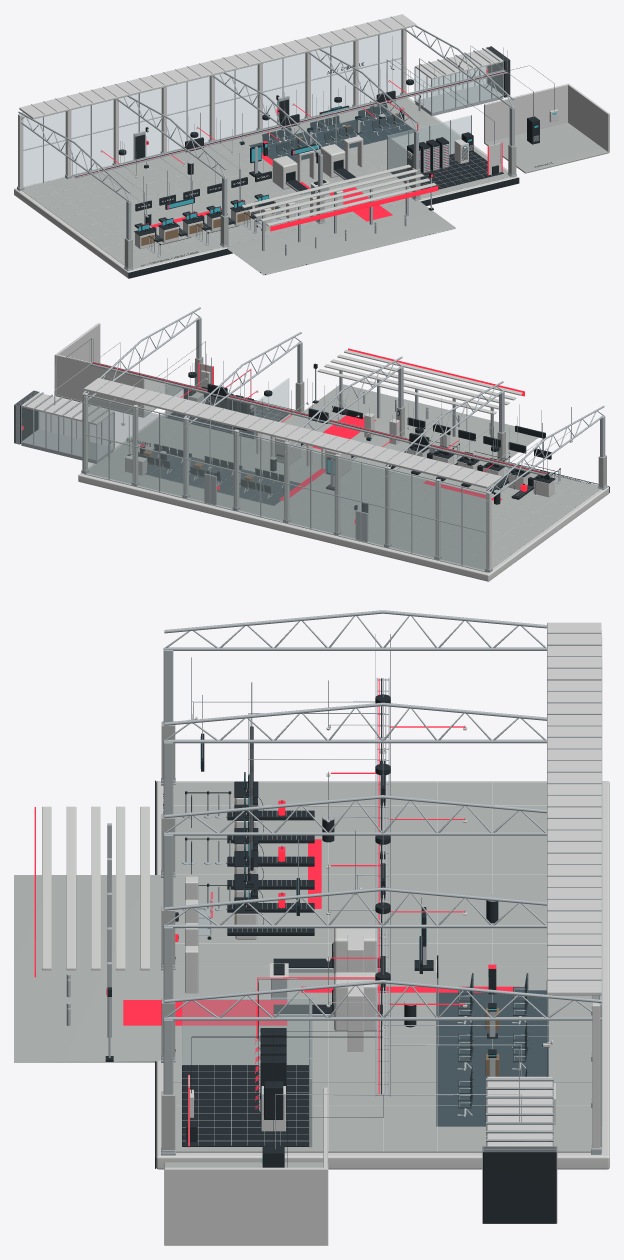
Rendered from airport-connected.glb.
The picture shows the model from 3 angles, top to bottom: view 1: azimuth 30°, elevation 25°; view 2: azimuth 150°, elevation 25°; view 3: azimuth 270°, elevation 25°; orthographic projection. The views are drawn at different scales.
Visible parts, largest first — view 1: Architecture__stone, Architecture__glass, Architecture__chalk, Architecture__metal, Architecture__dark, Furniture-context__chalk, Furniture-context__dark, Data__metal, Furniture-context__upholstery, Architecture__red, Architecture__upholstery, Furniture-context__metal (+7 smaller); view 2: Architecture__glass, Architecture__stone, Architecture__chalk, Architecture__metal, Furniture-context__chalk, Architecture__dark, Furniture-context__dark, Data__metal, Architecture__upholstery, Architecture__red, Furniture-context__upholstery, Data__dark (+3 smaller); view 3: Architecture__stone, Architecture__chalk, Architecture__metal, Architecture__dark, Furniture-context__dark, Architecture__upholstery, Architecture__glass, Furniture-context__chalk, Architecture__red, Data__metal, Furniture-context__metal, Furniture-context__upholstery (+6 smaller).
Boxes of the visible parts, x1=… form: Architecture__stone: x1=22, y1=98, x2=608, y2=275; Architecture__glass: x1=23, y1=30, x2=502, y2=187; Architecture__chalk: x1=14, y1=14, x2=609, y2=278; Architecture__metal: x1=17, y1=16, x2=516, y2=270; Architecture__dark: x1=128, y1=46, x2=552, y2=278; Furniture-context__chalk: x1=135, y1=99, x2=406, y2=248; Furniture-context__dark: x1=134, y1=90, x2=404, y2=245; Data__metal: x1=72, y1=47, x2=507, y2=230; Furniture-context__upholstery: x1=262, y1=104, x2=404, y2=154; Architecture__red: x1=150, y1=152, x2=438, y2=231; Architecture__upholstery: x1=249, y1=115, x2=413, y2=161; Furniture-context__metal: x1=137, y1=66, x2=406, y2=257; Architecture__glass: x1=21, y1=378, x2=486, y2=570; Architecture__stone: x1=56, y1=357, x2=606, y2=570; Architecture__chalk: x1=21, y1=323, x2=609, y2=581; Architecture__metal: x1=14, y1=307, x2=607, y2=572; Furniture-context__chalk: x1=125, y1=394, x2=554, y2=497; Architecture__dark: x1=14, y1=391, x2=609, y2=492; Furniture-context__dark: x1=140, y1=384, x2=560, y2=512; Data__metal: x1=89, y1=338, x2=547, y2=478; Architecture__upholstery: x1=145, y1=449, x2=300, y2=505; Architecture__red: x1=279, y1=348, x2=524, y2=500; Furniture-context__upholstery: x1=139, y1=443, x2=283, y2=493; Data__dark: x1=92, y1=363, x2=546, y2=494; Architecture__stone: x1=14, y1=721, x2=592, y2=1167; Architecture__chalk: x1=42, y1=622, x2=609, y2=1245; Architecture__metal: x1=107, y1=610, x2=602, y2=1223; Architecture__dark: x1=155, y1=726, x2=556, y2=1223; Furniture-context__dark: x1=185, y1=733, x2=498, y2=1038; Architecture__upholstery: x1=436, y1=990, x2=548, y2=1126; Architecture__glass: x1=182, y1=637, x2=602, y2=1148; Furniture-context__chalk: x1=66, y1=798, x2=555, y2=1125; Architecture__red: x1=34, y1=807, x2=519, y2=1025; Data__metal: x1=247, y1=634, x2=390, y2=1111; Furniture-context__metal: x1=66, y1=695, x2=498, y2=1076; Furniture-context__upholstery: x1=458, y1=973, x2=528, y2=1108.
Bounding box in the file's own units: 40.38 × 7.54 × 21.8.
